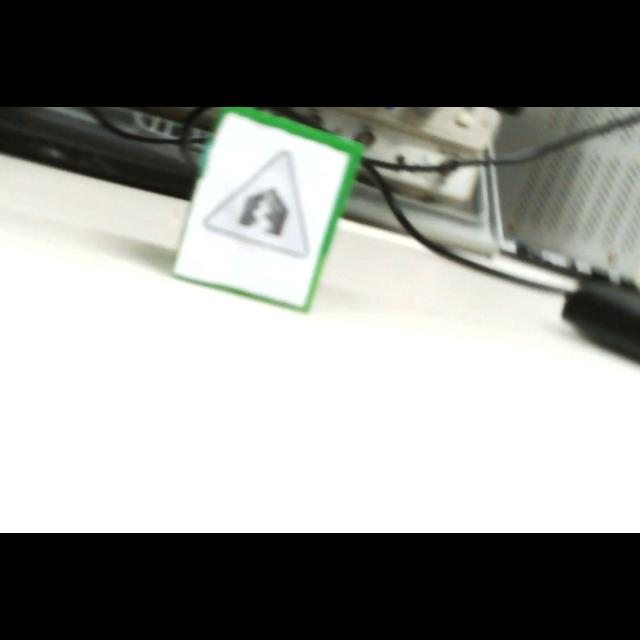Earthquake: (202, 151, 310, 259)
